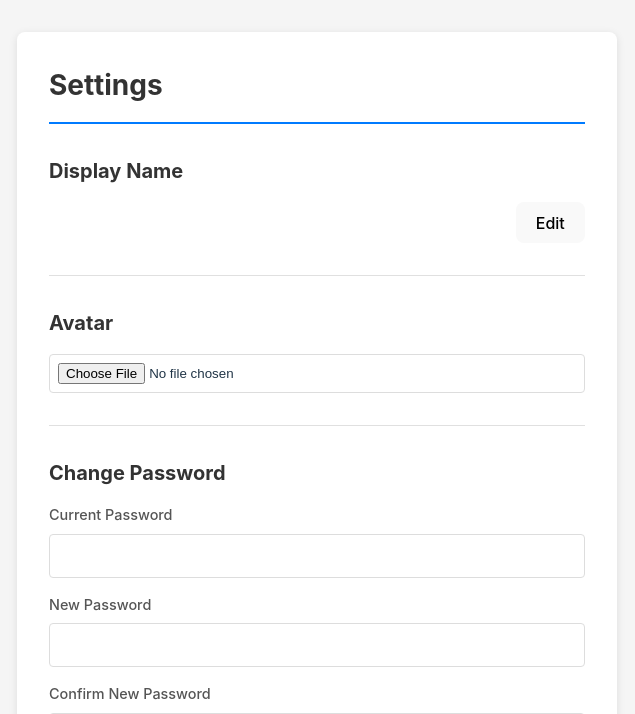
Test case: UserConfigurationPage › 12.4.3: Change password form (current + new + confirm) › should validate password mismatch
The image size is (635, 714).
Type "ValidPass123" into the password field labelled "New Password" at (317, 645), box [49,623,585,667]
(page scrolled)
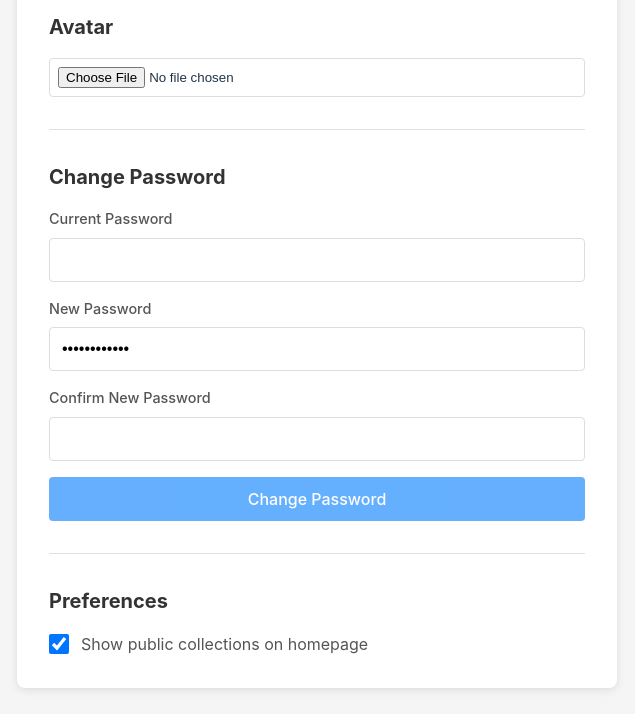
Type "DifferentPass123" into the password field labelled "Confirm New Password" at (317, 439), box [49,417,585,461]
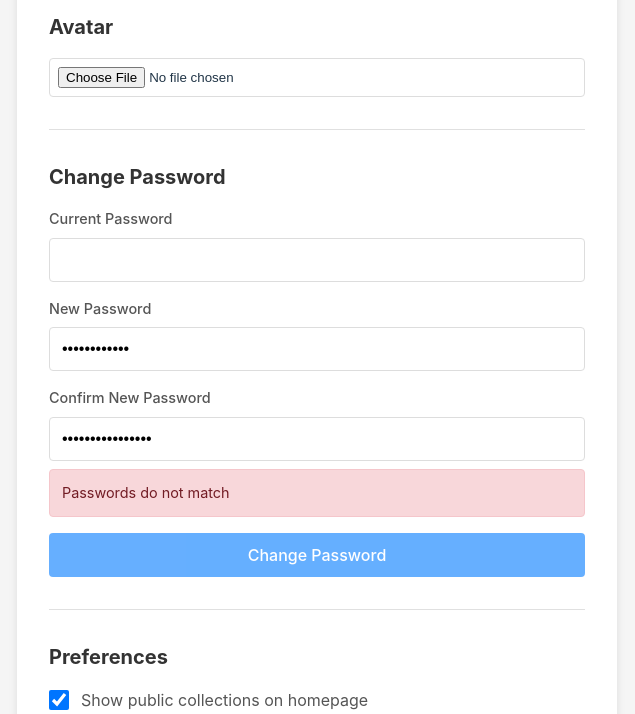
Expected: the text "Passwords do not match" is shown, [49,469,585,517]
